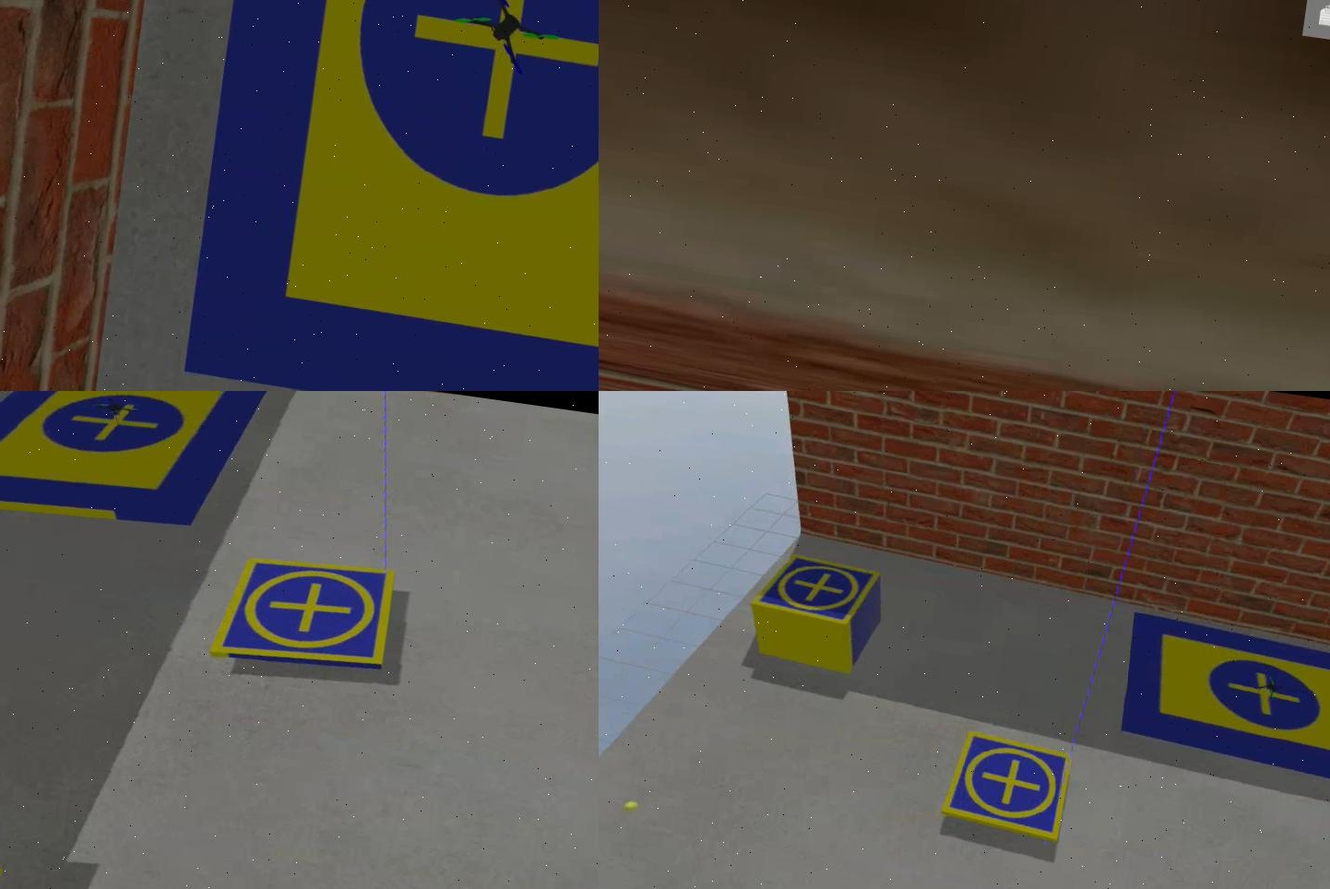large_base: (177, 1, 598, 391), (0, 391, 273, 557), (1109, 615, 1328, 805)
small_base: (206, 550, 397, 682), (935, 725, 1074, 846), (744, 553, 877, 632)
